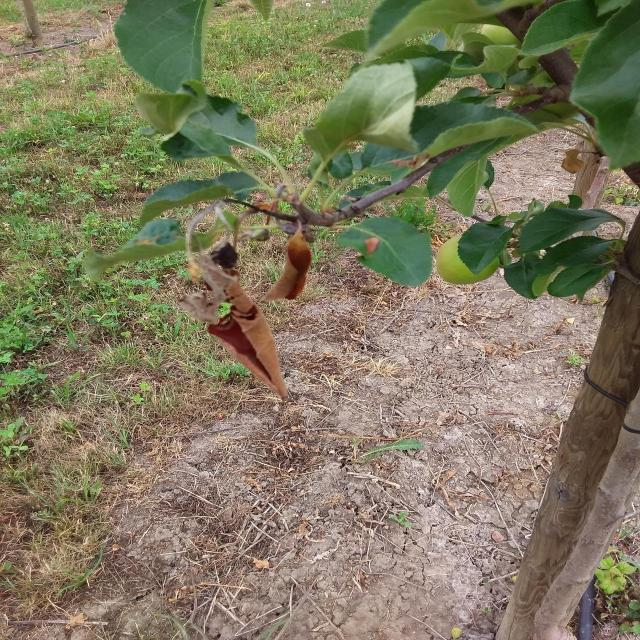-FireBlight-: (186, 184, 310, 400)
